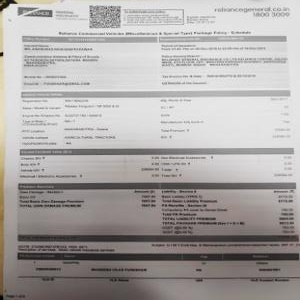image: (14, 5, 56, 19)
table: (16, 87, 295, 148), (22, 34, 289, 90), (17, 236, 300, 288), (18, 183, 299, 235), (17, 147, 296, 183)
text: (121, 7, 186, 27)
